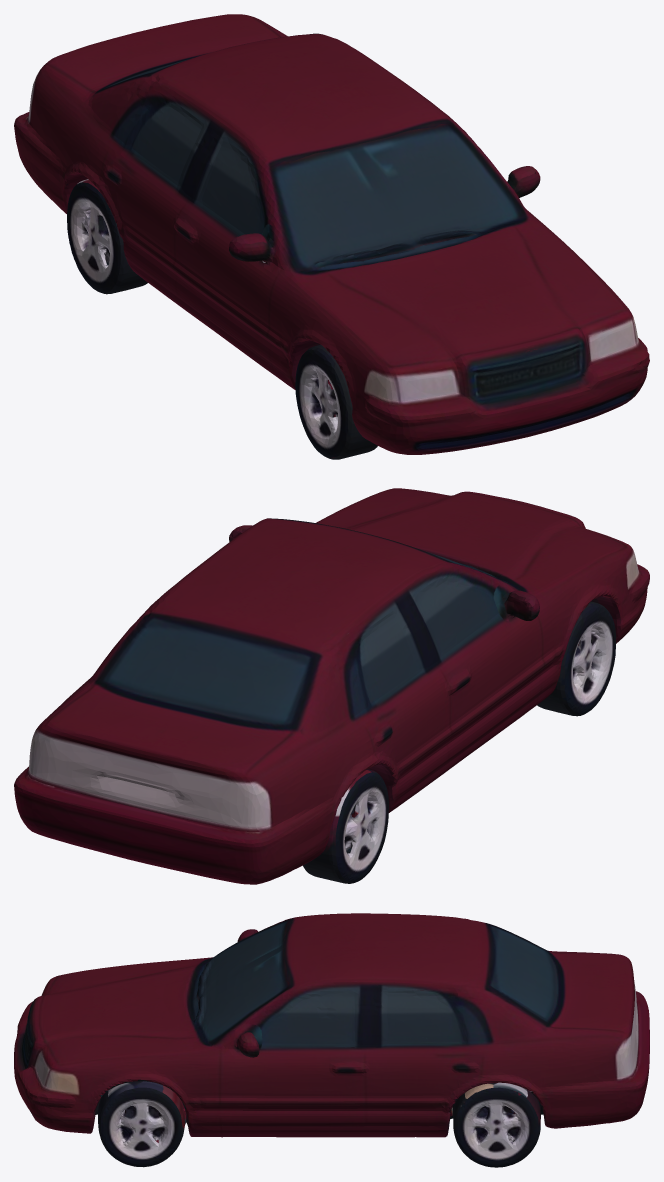
The model's file is sedan_red.glb.
The picture shows the model from 3 angles, top to bottom: view 1: azimuth 30°, elevation 25°; view 2: azimuth 150°, elevation 25°; view 3: azimuth 270°, elevation 25°; orthographic projection. The views are drawn at different scales.
Visible parts, largest first — view 1: tmp_en4a8id.ply; view 2: tmp_en4a8id.ply; view 3: tmp_en4a8id.ply.
Part boxes in pixels (x1=…): tmp_en4a8id.ply: x1=14, y1=14, x2=649, y2=459; tmp_en4a8id.ply: x1=14, y1=488, x2=649, y2=884; tmp_en4a8id.ply: x1=14, y1=913, x2=649, y2=1167.
Bounding box in the file's own units: 0.8646 × 0.6103 × 1.99.
1 material, 1 textured.
